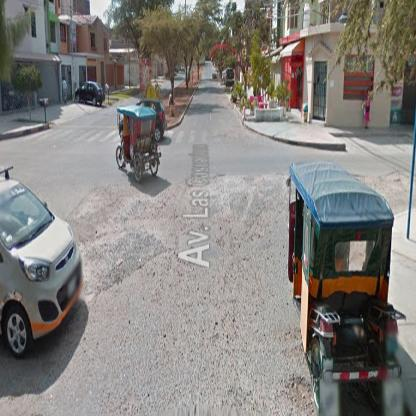Pista: (72, 59, 409, 407)
Vehiculo: (289, 159, 407, 412), (117, 105, 162, 183), (74, 82, 106, 107)
